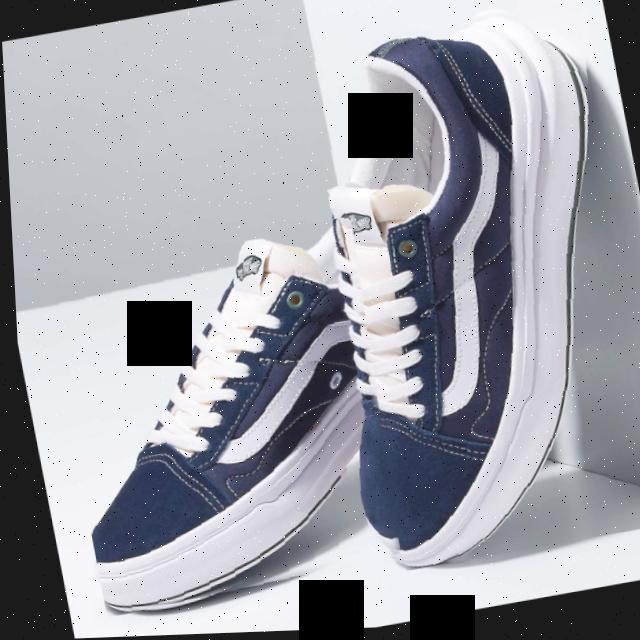shoe: (272, 0, 640, 581), (36, 217, 414, 620)
